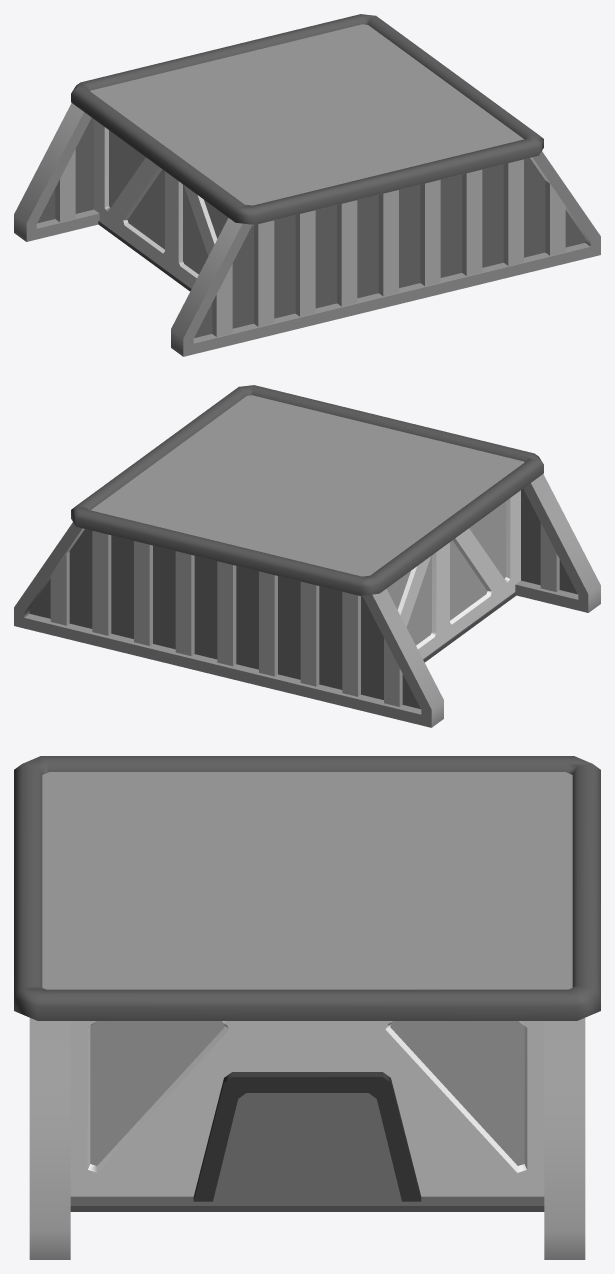
Rendered from hangar_002.fbx.
3 views of the same model, one above another, from view 1: azimuth 30°, elevation 25°; view 2: azimuth 150°, elevation 25°; view 3: azimuth 270°, elevation 25° (orthographic). The views are drawn at different scales.
Parts seen in each view (by area): view 1: hangar_002; view 2: hangar_002; view 3: hangar_002.
Part boxes in pixels (<box>): hangar_002: <box>14,14,600,356</box>; hangar_002: <box>14,385,600,727</box>; hangar_002: <box>14,756,600,1259</box>.
Bounding box in the file's own units: 3010 × 2233 × 910.
